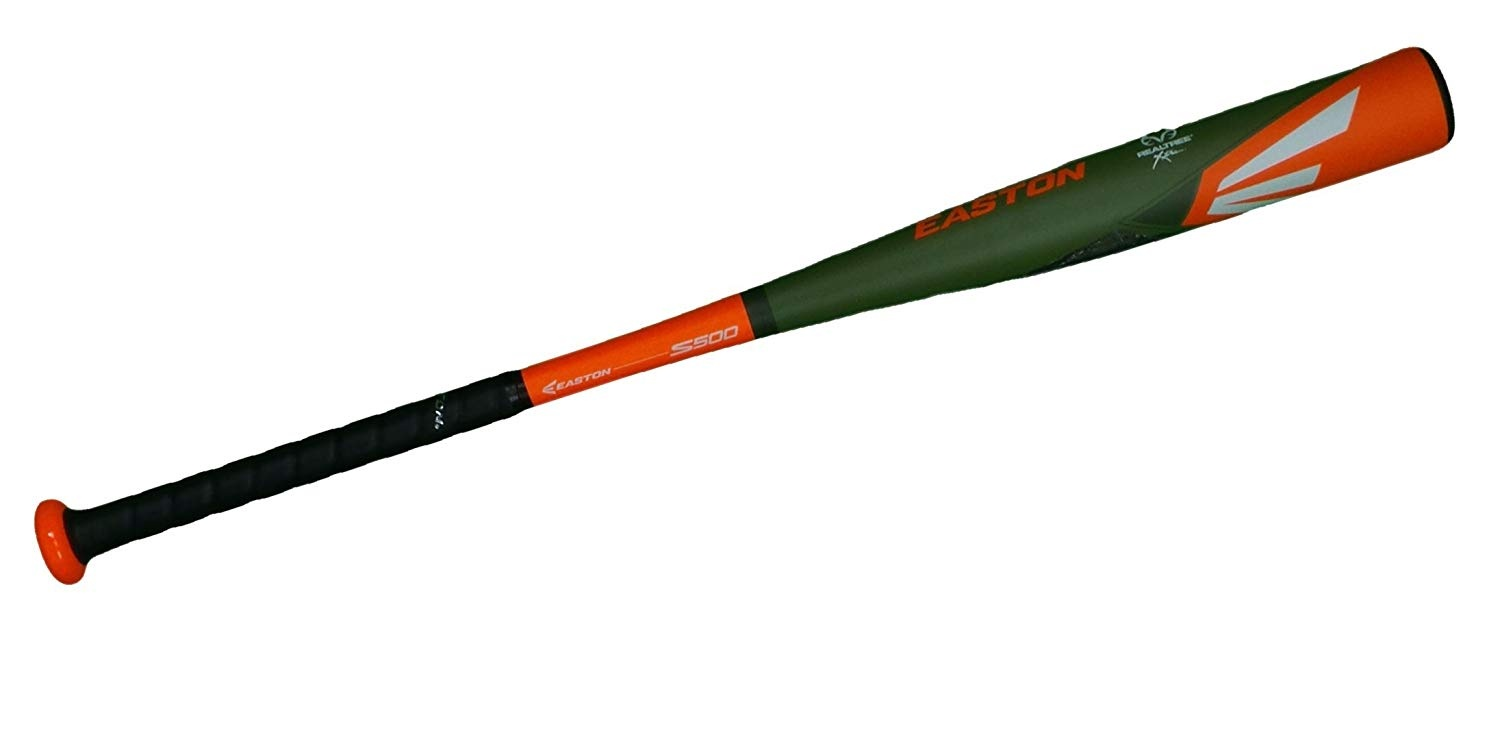bita: (36, 52, 1455, 580)
